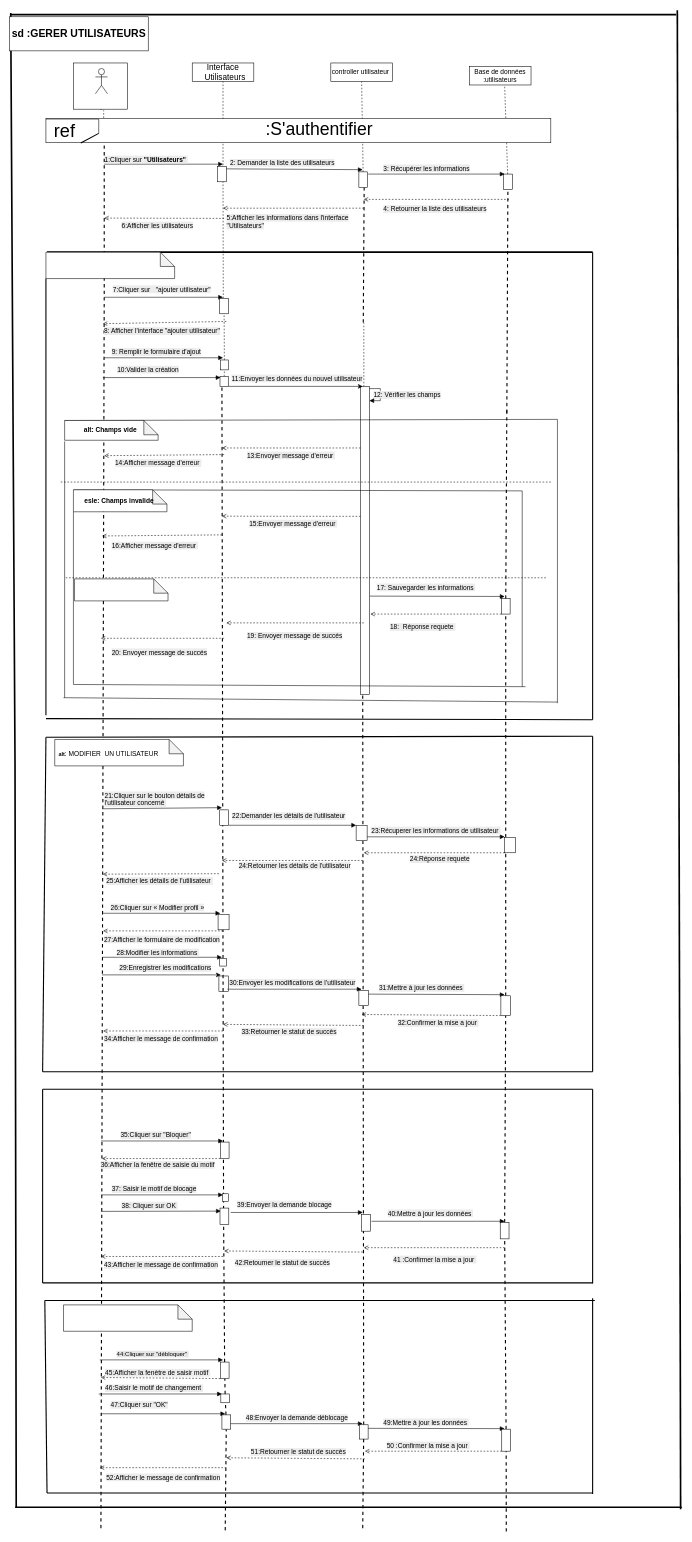
Image size: 692x1542. Some labels were removed from this diagram. The box of each missing label's shape, as (x1, y1, x2, y2) in pixels:
Administrateur: (95, 68, 108, 94)
alt : AJOUTER UN UTILISATEUR: (45, 252, 175, 279)
alt: DEBLOQUER UTILISATEUR: (63, 1304, 192, 1331)
esle:Succés: (74, 578, 168, 601)
